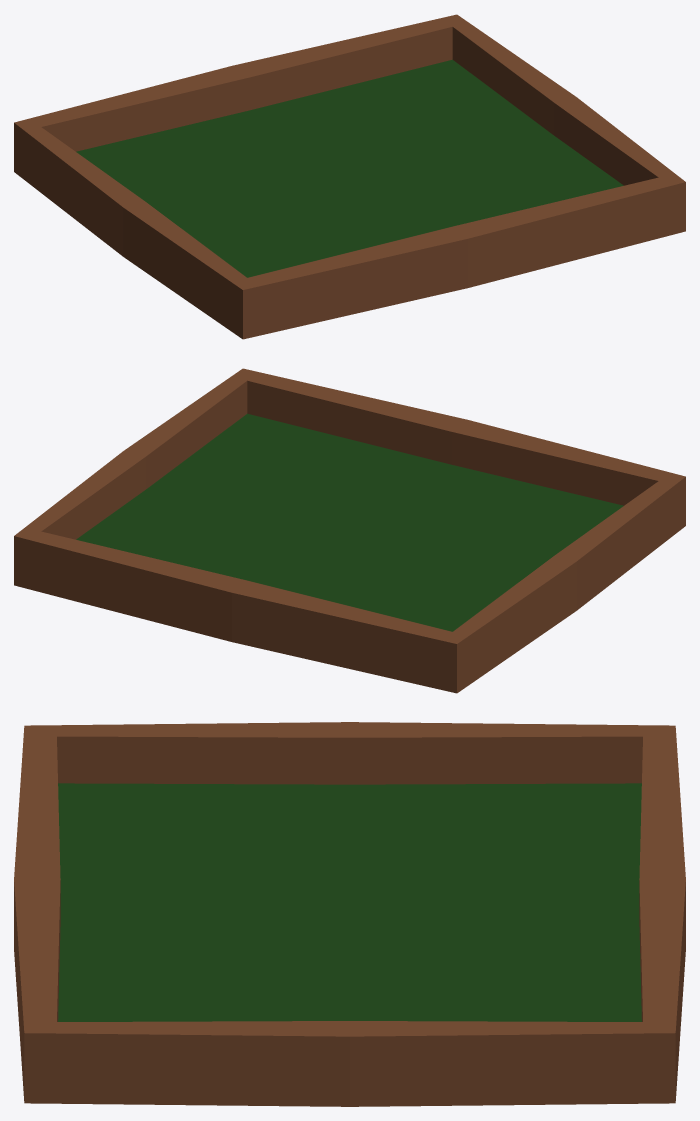
Rendered from GrassSquereBrown.obj.
The picture shows the model from 3 angles, top to bottom: view 1: azimuth 30°, elevation 25°; view 2: azimuth 150°, elevation 25°; view 3: azimuth 270°, elevation 25°; orthographic projection. The views are drawn at different scales.
Parts seen in each view (by area): view 1: trawka.007; view 2: trawka.007; view 3: trawka.007.
Boxes of the visible parts, box(x1,y1,x2,y2) form: trawka.007: box(14, 14, 685, 339); trawka.007: box(14, 368, 685, 693); trawka.007: box(14, 722, 685, 1106).
Bounding box in the file's own units: 5.76 × 0.6 × 5.2.
